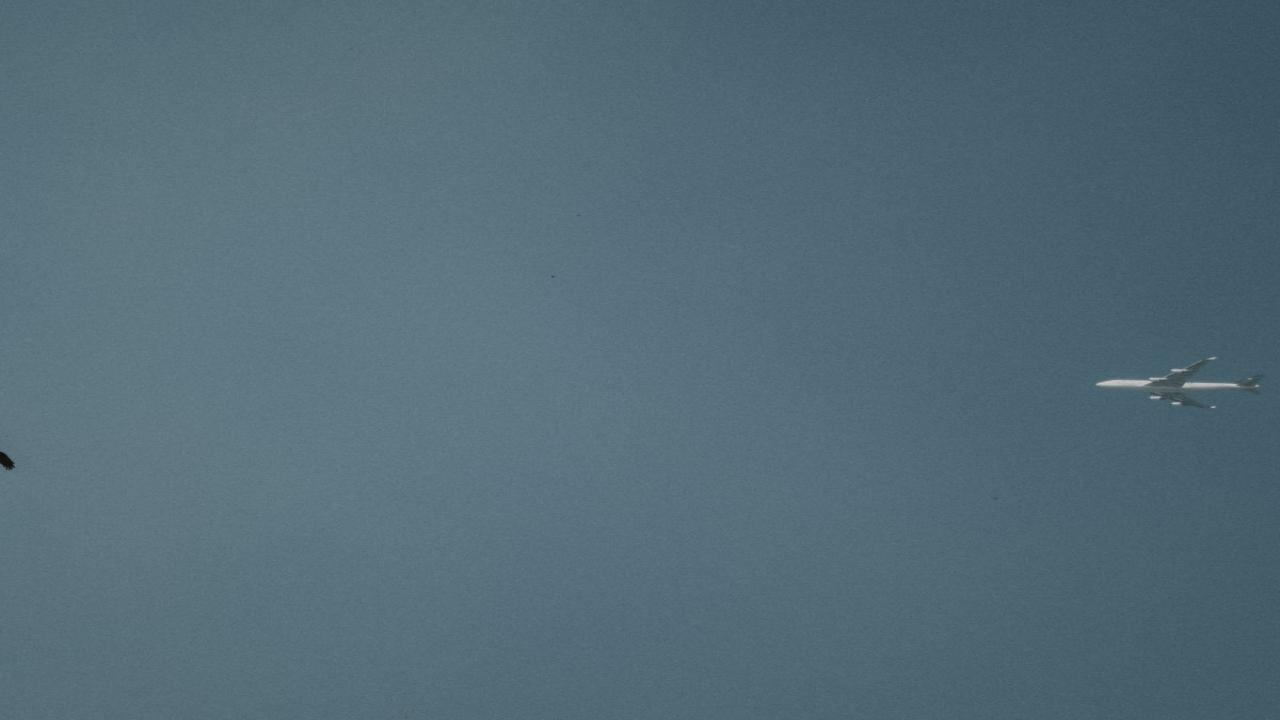Airplane: (1071, 341, 1278, 423)
